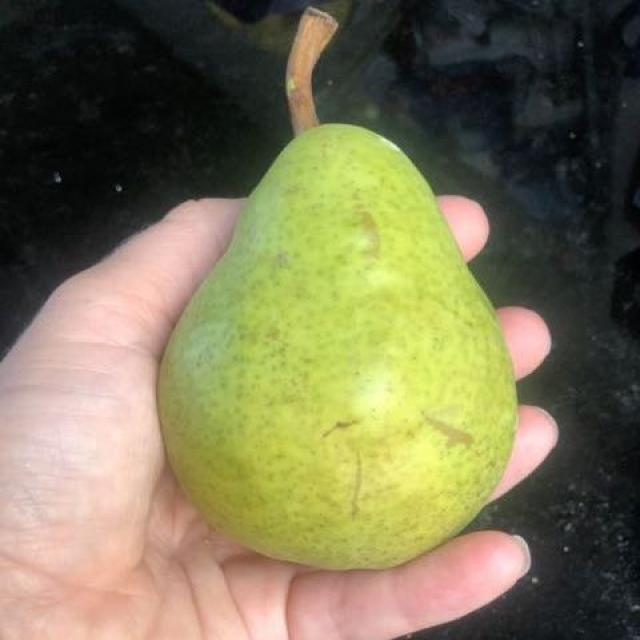pear: (167, 129, 518, 565)
